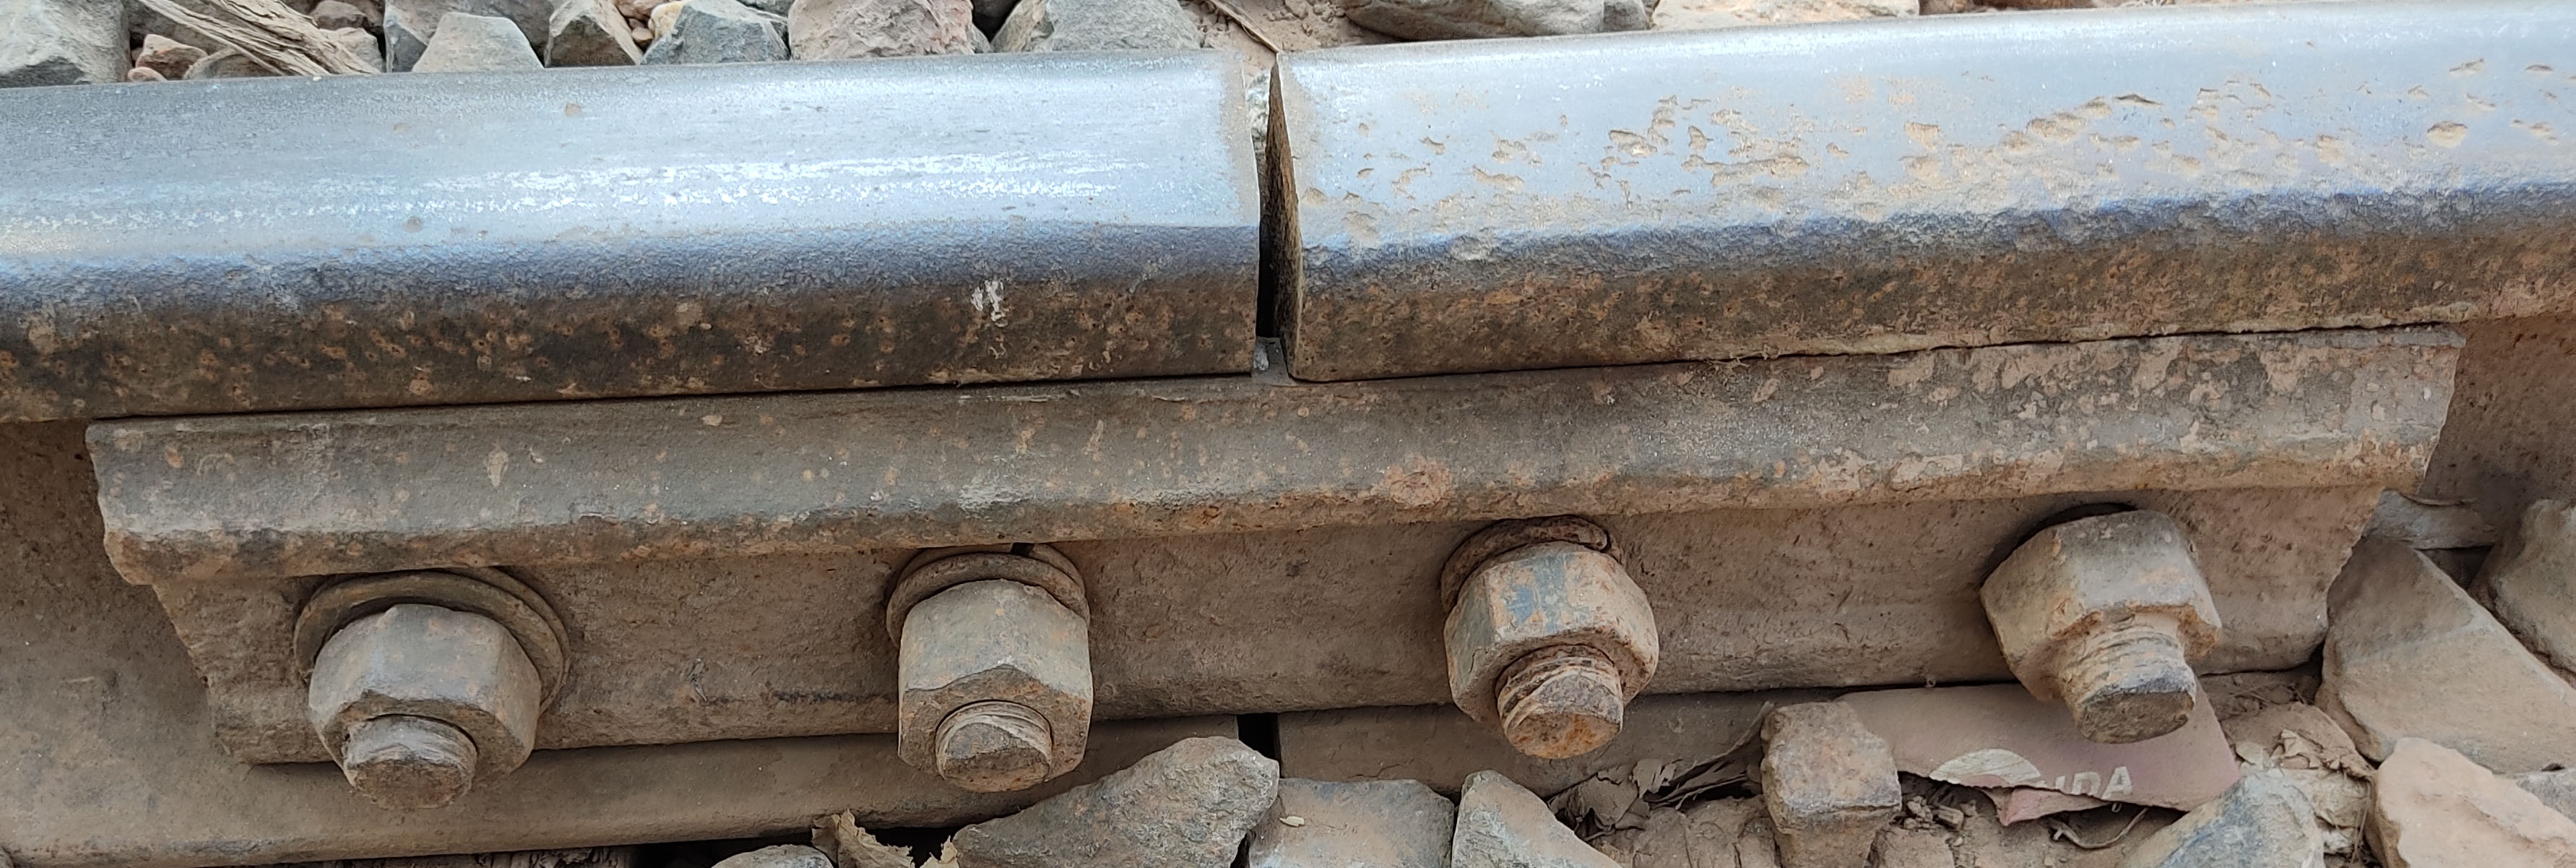error2: (1203, 18, 1368, 386)
